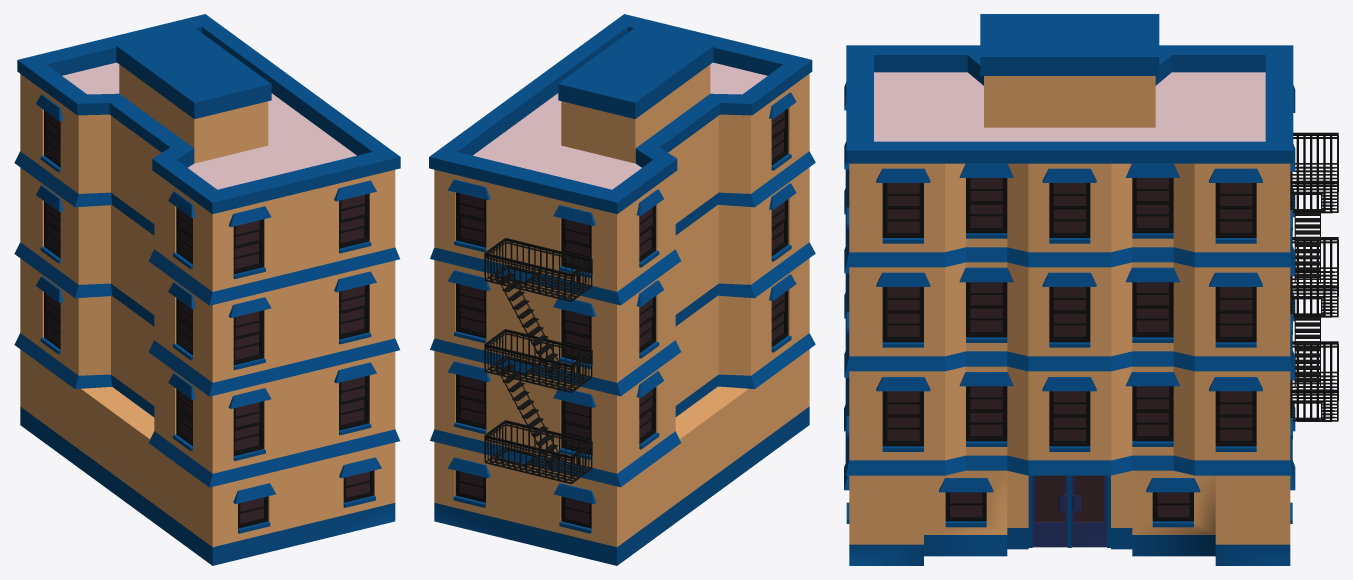
Rendered from edificio1 (2x1).fbx.
3 renders of one model, left to right at view 1: azimuth 30°, elevation 25°; view 2: azimuth 150°, elevation 25°; view 3: azimuth 270°, elevation 25°, orthographic. The views are drawn at different scales.
Visible parts, largest first — view 1: PublicBuilding_9; view 2: PublicBuilding_9; view 3: PublicBuilding_9.
Boxes of the visible parts, bbox=[...] form: PublicBuilding_9: bbox=[14, 14, 400, 565]; PublicBuilding_9: bbox=[429, 14, 815, 565]; PublicBuilding_9: bbox=[844, 14, 1338, 565].
Size of the model in its own units: 140 by 289 by 274.
